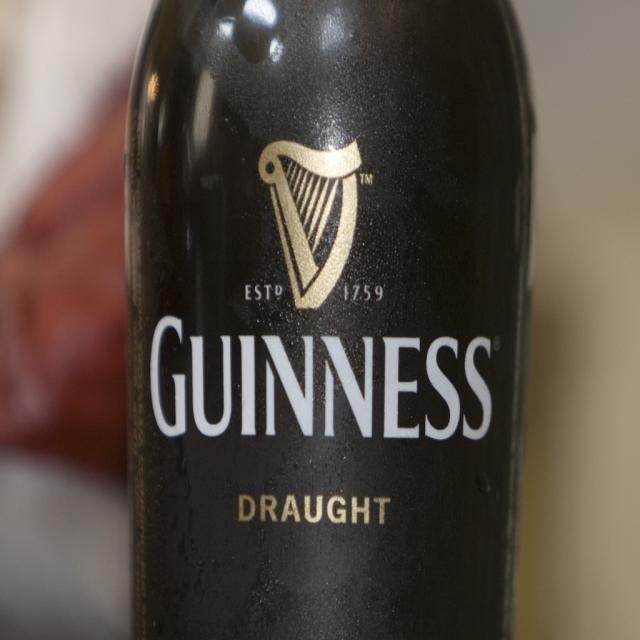guiness: (149, 136, 498, 443)
